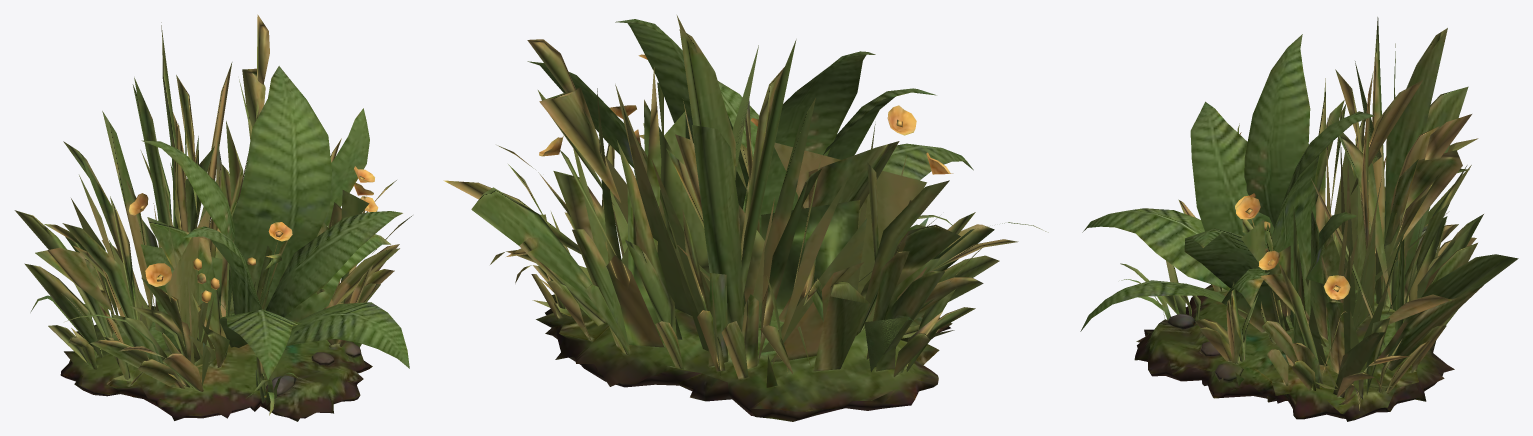
The model's file is ferns.glb.
The picture shows the model from 3 angles, left to right: view 1: azimuth 30°, elevation 25°; view 2: azimuth 150°, elevation 25°; view 3: azimuth 270°, elevation 25°; orthographic projection. The views are drawn at different scales.
Bounding box in the file's own units: 0.9385 × 0.6768 × 0.8442.
Materials: 1 (1 with a texture image).
